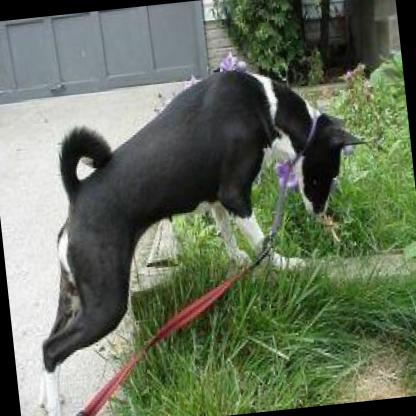basenji: (0, 50, 397, 416)
